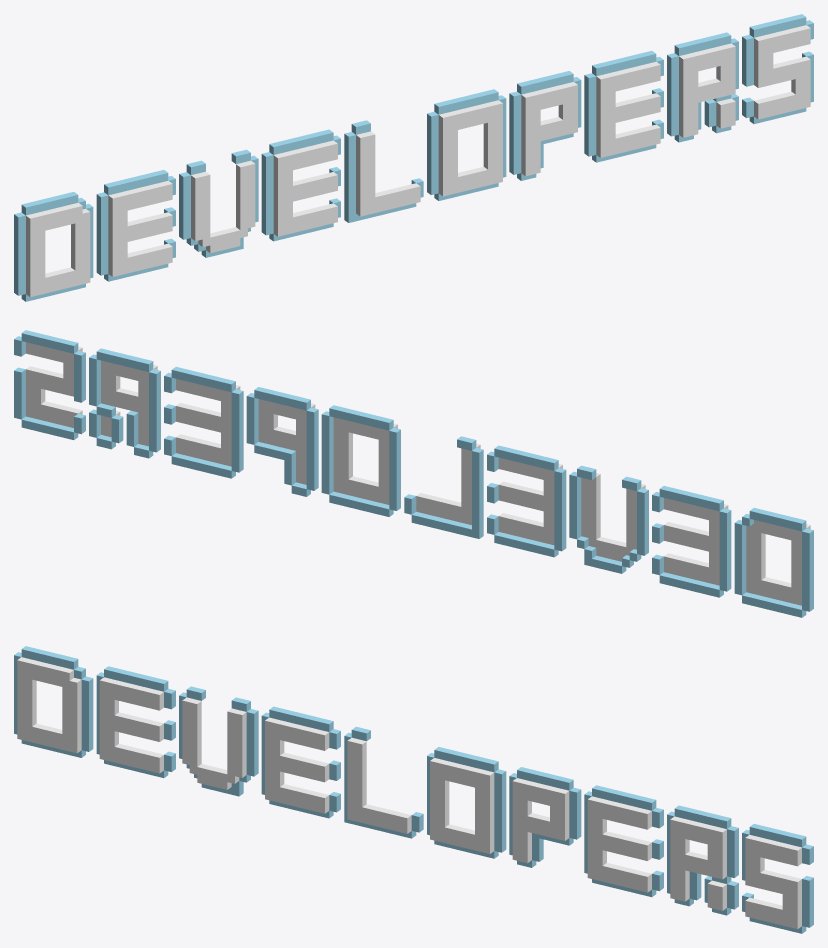
The model's file is Credit_Inform.obj.
3 views of the same model, one above another, from view 1: azimuth 30°, elevation 25°; view 2: azimuth 150°, elevation 25°; view 3: azimuth 330°, elevation 25° (orthographic).
Bounding box in the file's own units: 106 × 12 × 2.
Materials: 1 (1 with a texture image).
